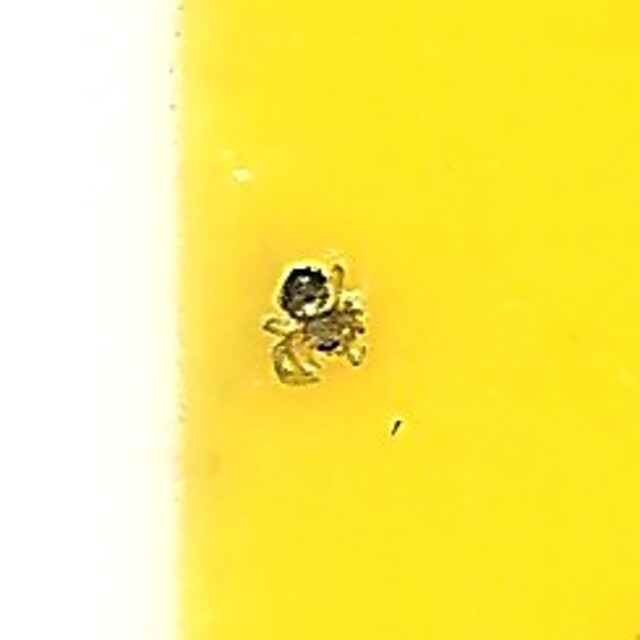Araneae: (261, 249, 379, 391)
